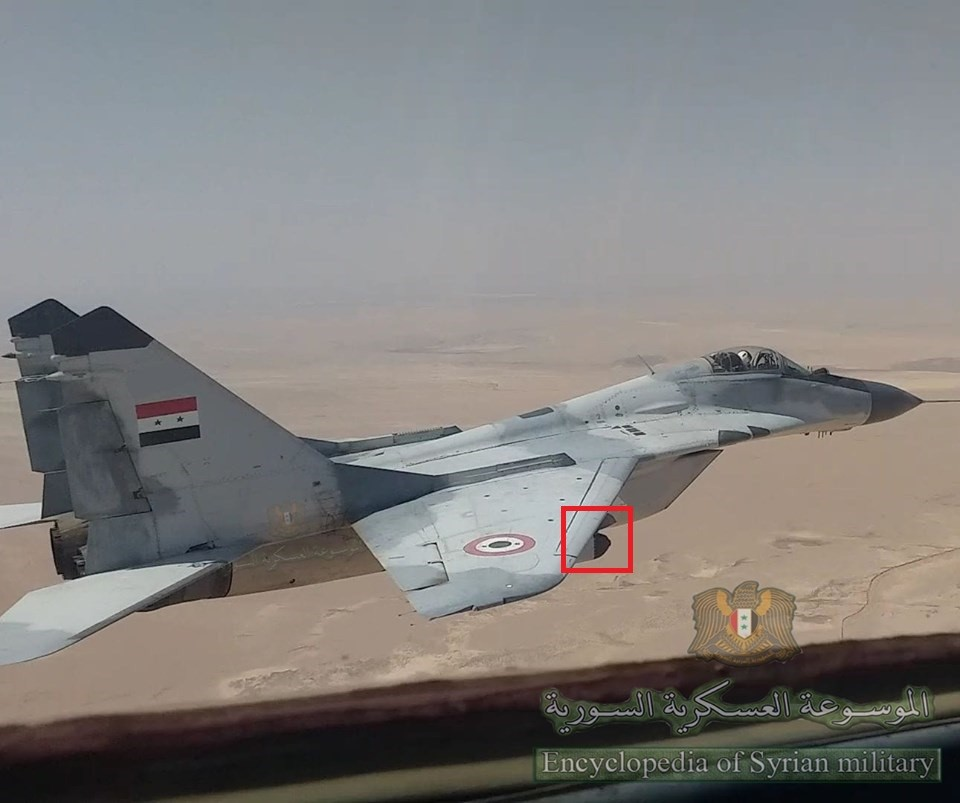Mig-29: (25, 185, 933, 656)
